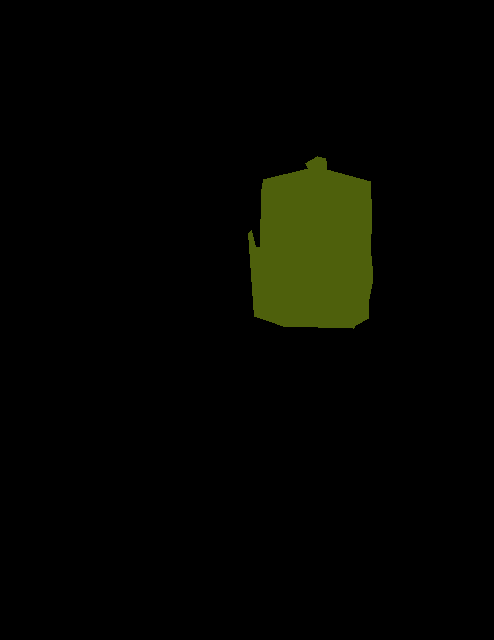Train: (248, 156, 372, 328)
